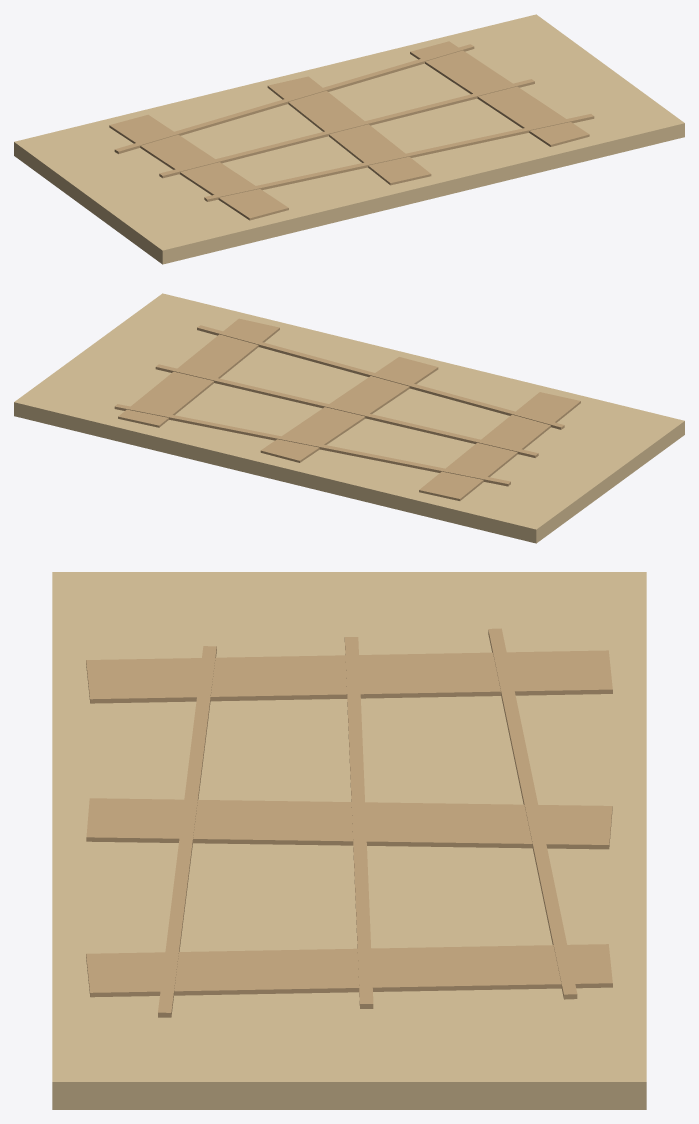
The model's file is track_sand_3lane.glb.
The picture shows the model from 3 angles, top to bottom: view 1: azimuth 30°, elevation 25°; view 2: azimuth 150°, elevation 25°; view 3: azimuth 270°, elevation 25°; orthographic projection. The views are drawn at different scales.
Parts seen in each view (by area): view 1: track_sand_3lane; view 2: track_sand_3lane; view 3: track_sand_3lane.
Part boxes in pixels (left/top/right/bottom): track_sand_3lane: left=14, top=14, right=684, bottom=264; track_sand_3lane: left=14, top=293, right=684, bottom=543; track_sand_3lane: left=52, top=572, right=646, bottom=1109.
Size of the model in its own units: 6.25 by 0.197 by 3.08.
